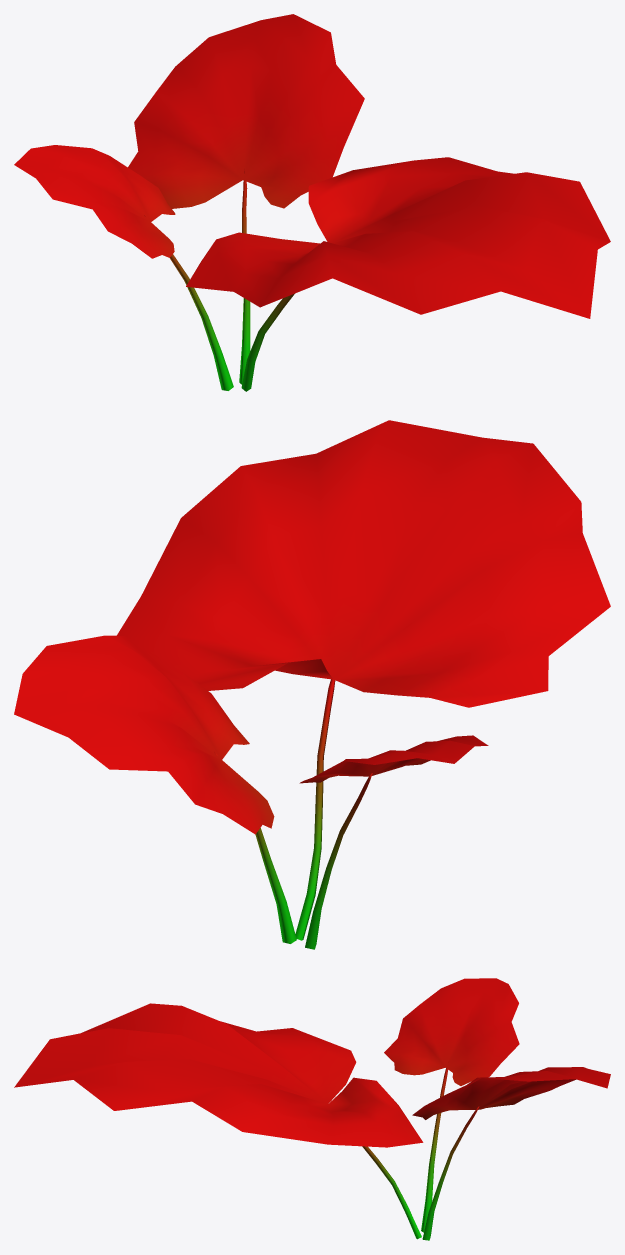
The model's file is Coltsfoot_LOD1_Var5_xbtkdfvqx.fbx.
The picture shows the model from 3 angles, top to bottom: view 1: azimuth 30°, elevation 25°; view 2: azimuth 150°, elevation 25°; view 3: azimuth 270°, elevation 25°; orthographic projection. The views are drawn at different scales.
Parts seen in each view (by area): view 1: _wz1g_Var5_LOD1; view 2: _wz1g_Var5_LOD1; view 3: _wz1g_Var5_LOD1.
Part boxes in pixels (bbox=[...]): _wz1g_Var5_LOD1: bbox=[14, 14, 610, 391]; _wz1g_Var5_LOD1: bbox=[14, 420, 610, 949]; _wz1g_Var5_LOD1: bbox=[14, 978, 610, 1240].
Size of the model in its own units: 19 by 12.63 by 30.79.
